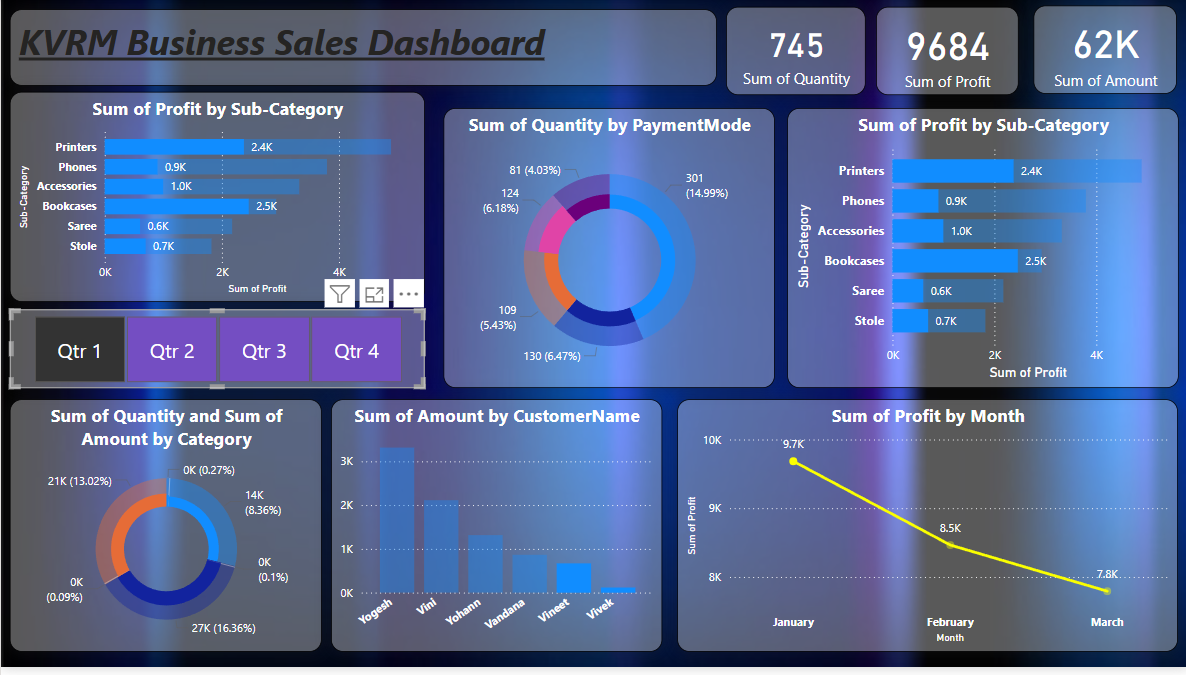

This screenshot's page, from the dashboard's own definition file:
{"tool":"powerbi","page":{"name":"Page 1","canvas":[1280,720],"ordinal":0},"visuals":[{"type":"textbox","box":[9.4,12.1,762,82.1],"z":0},{"type":"lineChart","fields":{"Category":["Orders.Order Date.Variation.Date Hierarchy.Month"],"Y":["Details.Profit"]},"box":[727.7,431.8,539.4,271.7],"z":1000},{"type":"barChart","fields":{"Y":["Details.Profit"],"Category":["Details.Sub-Category"]},"box":[846.8,118.5,421.4,301.6],"z":2000},{"type":"donutChart","fields":{"Y":["Details.Quantity","Details.Amount"],"Category":["Details.Category"]},"box":[9.4,431.8,336.3,271.7],"z":3000},{"type":"donutChart","fields":{"Y":["Details.Quantity"],"Category":["Details.PaymentMode"]},"box":[476.6,118.5,356.8,301.6],"z":4000},{"type":"card","fields":{"Values":["Details.Amount"]},"box":[1112.4,8.1,154.7,95.5],"z":5000},{"type":"card","fields":{"Values":["Details.Profit"]},"box":[942.9,9.4,153.3,95.5],"z":6000},{"type":"card","fields":{"Values":["Details.Quantity"]},"box":[780.8,9.4,150.8,95.6],"z":7000},{"type":"barChart","fields":{"Y":["Details.Profit"],"Category":["Details.Sub-Category"]},"box":[9.4,101,447,226.2],"z":8000},{"type":"lineStackedColumnComboChart","fields":{"Category":["Orders.CustomerName"],"Y":["Details.Amount"]},"box":[355.1,431.8,356.5,271.7],"z":9000},{"type":"slicer","fields":{"Values":["Orders.Order Date.Variation.Date Hierarchy.Quarter"]},"box":[9.4,335.2,447,84.8],"z":10000}]}

Visuals, with their boxes in screenshot pixels (x1, y1, x2, y2), scaled from the page's 1280x720 canvas onto the 1186x675 screenshot:
textbox: select_region(9, 11, 715, 88)
lineChart - Orders.Order Date.Variation.Date Hierarchy.Month x Details.Profit: select_region(674, 405, 1174, 660)
barChart - Details.Profit x Details.Sub-Category: select_region(785, 111, 1175, 394)
donutChart - Details.Quantity x Details.Amount: select_region(9, 405, 320, 660)
donutChart - Details.Quantity x Details.PaymentMode: select_region(442, 111, 772, 394)
card - Details.Amount: select_region(1031, 8, 1174, 97)
card - Details.Profit: select_region(874, 9, 1016, 98)
card - Details.Quantity: select_region(723, 9, 863, 98)
barChart - Details.Profit x Details.Sub-Category: select_region(9, 95, 423, 307)
lineStackedColumnComboChart - Orders.CustomerName x Details.Amount: select_region(329, 405, 659, 660)
slicer - Orders.Order Date.Variation.Date Hierarchy.Quarter: select_region(9, 314, 423, 394)
